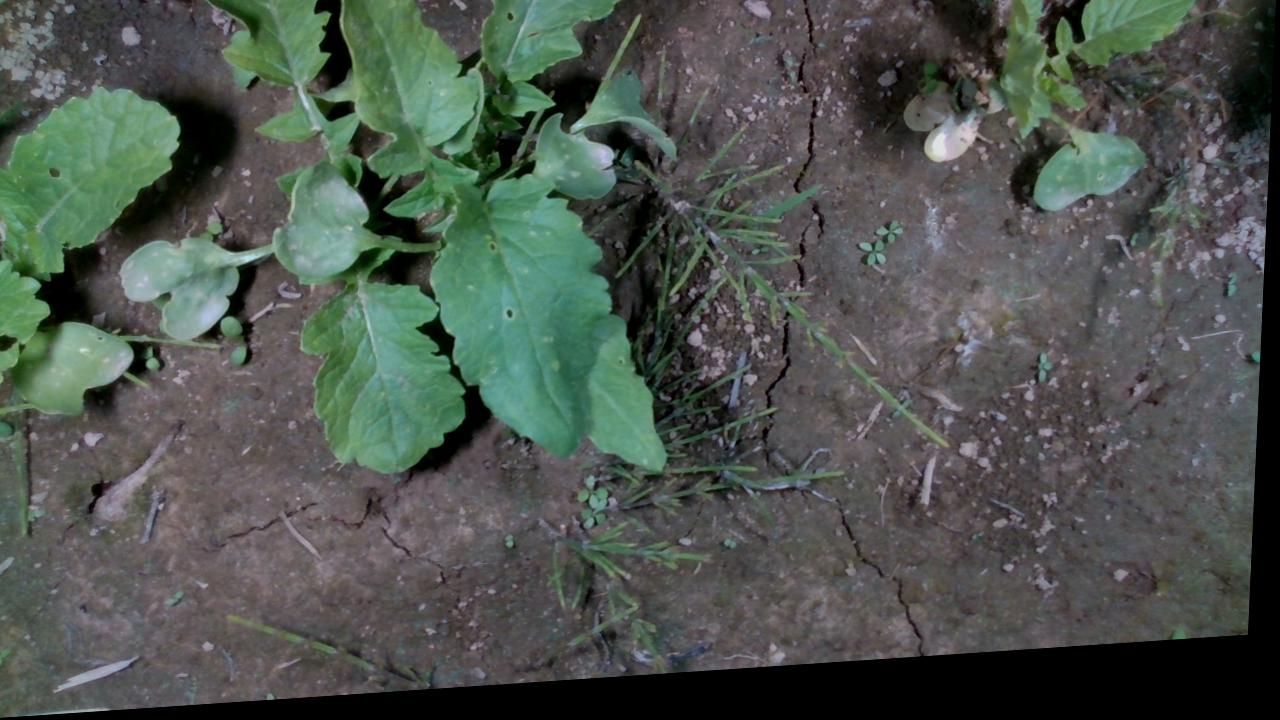weed: (1038, 364, 1057, 401), (0, 644, 19, 669), (168, 590, 189, 611), (507, 539, 520, 557)
